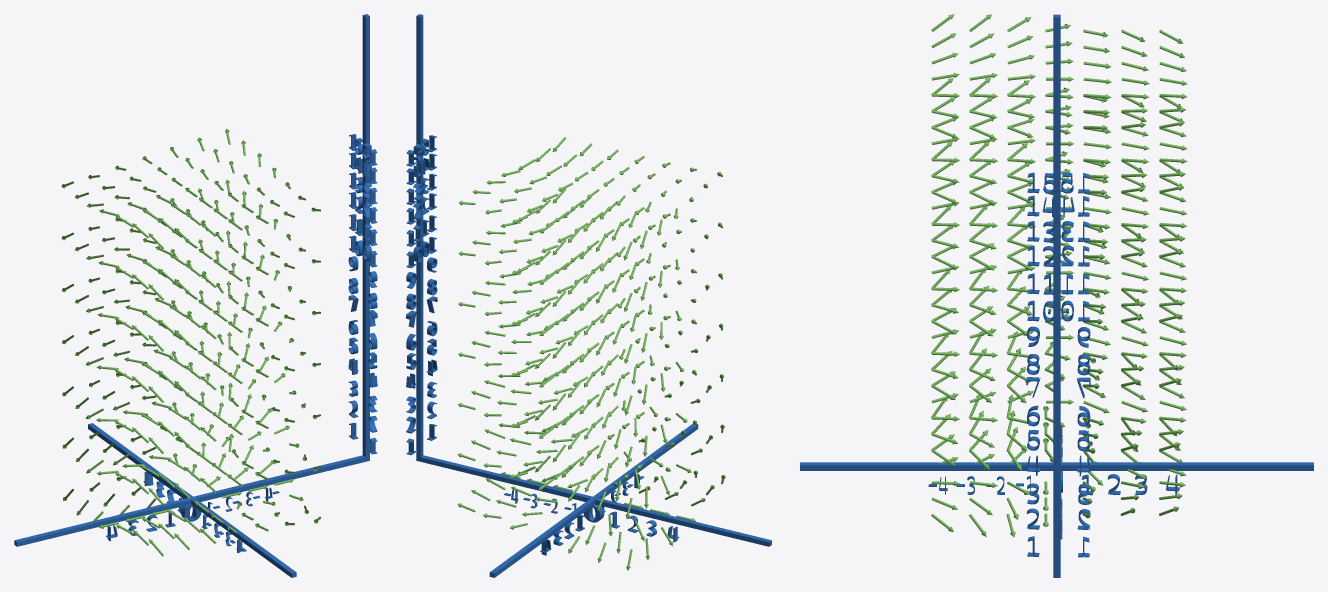
The model's file is campo2.0.glb.
The picture shows the model from 3 angles, left to right: view 1: azimuth 30°, elevation 25°; view 2: azimuth 150°, elevation 25°; view 3: azimuth 270°, elevation 25°; orthographic projection. The views are drawn at different scales.
Visible parts, largest first — view 1: campo_vectorial_flechas:campo_vectorial, pasted__pCube1.001, pCube1, pasted__pCube1; view 2: campo_vectorial_flechas:campo_vectorial, pasted__pCube1.001, pCube1, pasted__pCube1; view 3: campo_vectorial_flechas:campo_vectorial, pasted__pCube1.001, pasted__pCube1.
Part boxes in pixels (x1,y1,x2,y2): campo_vectorial_flechas:campo_vectorial: (61, 128, 320, 556); pasted__pCube1.001: (362, 14, 369, 460); pCube1: (14, 455, 369, 546); pasted__pCube1: (88, 423, 296, 577); campo_vectorial_flechas:campo_vectorial: (457, 137, 725, 570); pasted__pCube1.001: (416, 14, 423, 460); pCube1: (416, 455, 771, 546); pasted__pCube1: (489, 424, 698, 577); campo_vectorial_flechas:campo_vectorial: (931, 14, 1187, 537); pasted__pCube1.001: (1053, 14, 1060, 572); pasted__pCube1: (800, 462, 1313, 470).
Size of the model in its own units: 0.1803 by 0.2261 by 0.1803.
